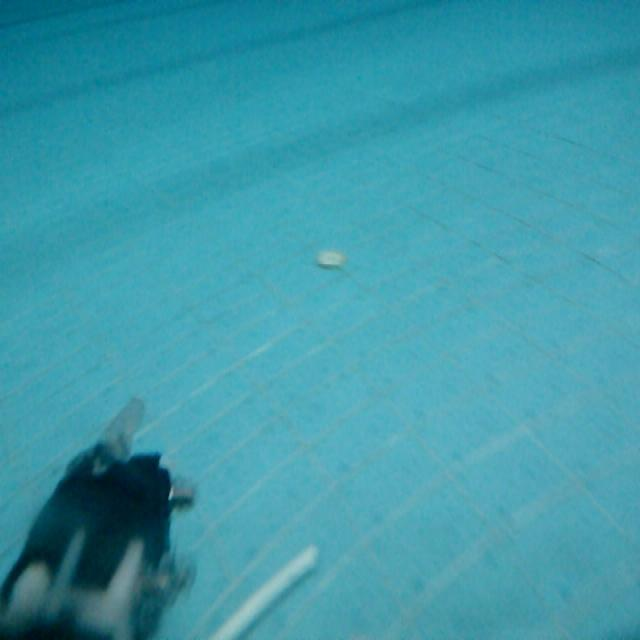Cube: (208, 546, 320, 640)
